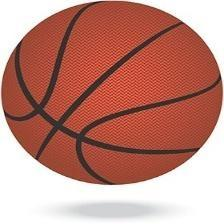Sports-Ball: (2, 2, 224, 190)
